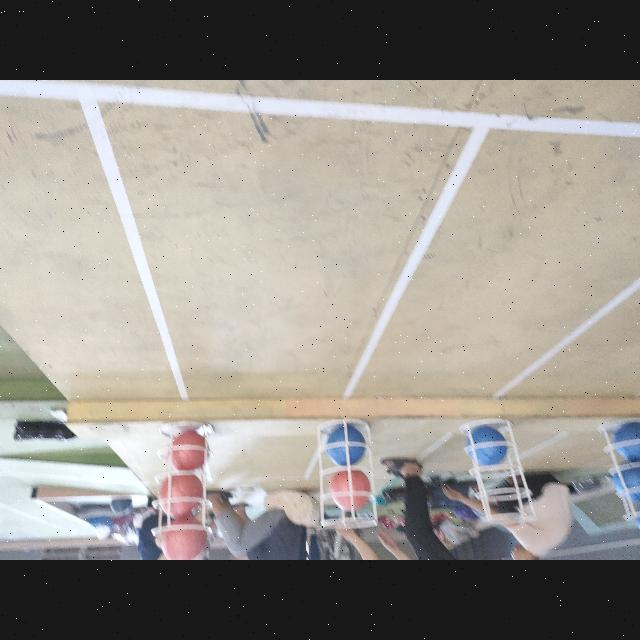B: (466, 426, 508, 466), (326, 426, 364, 466), (614, 423, 640, 462), (612, 462, 640, 498)
R: (158, 516, 206, 560), (162, 472, 204, 514), (332, 468, 372, 512), (171, 432, 211, 470)
